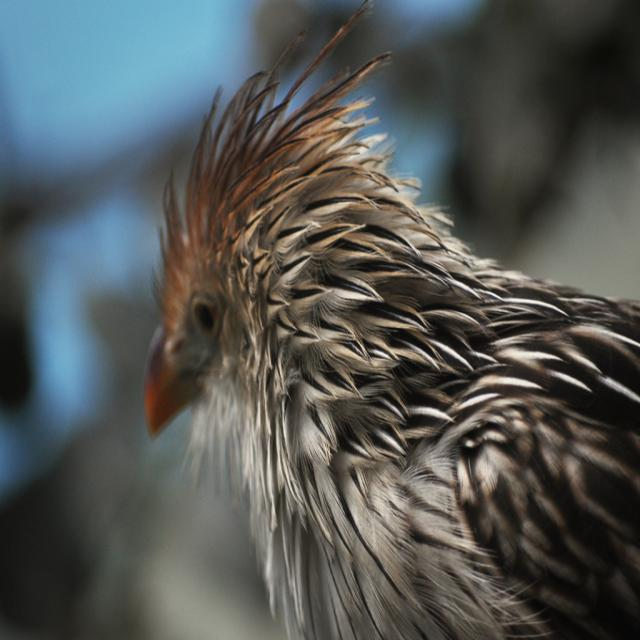Chicken: (134, 23, 611, 640)
